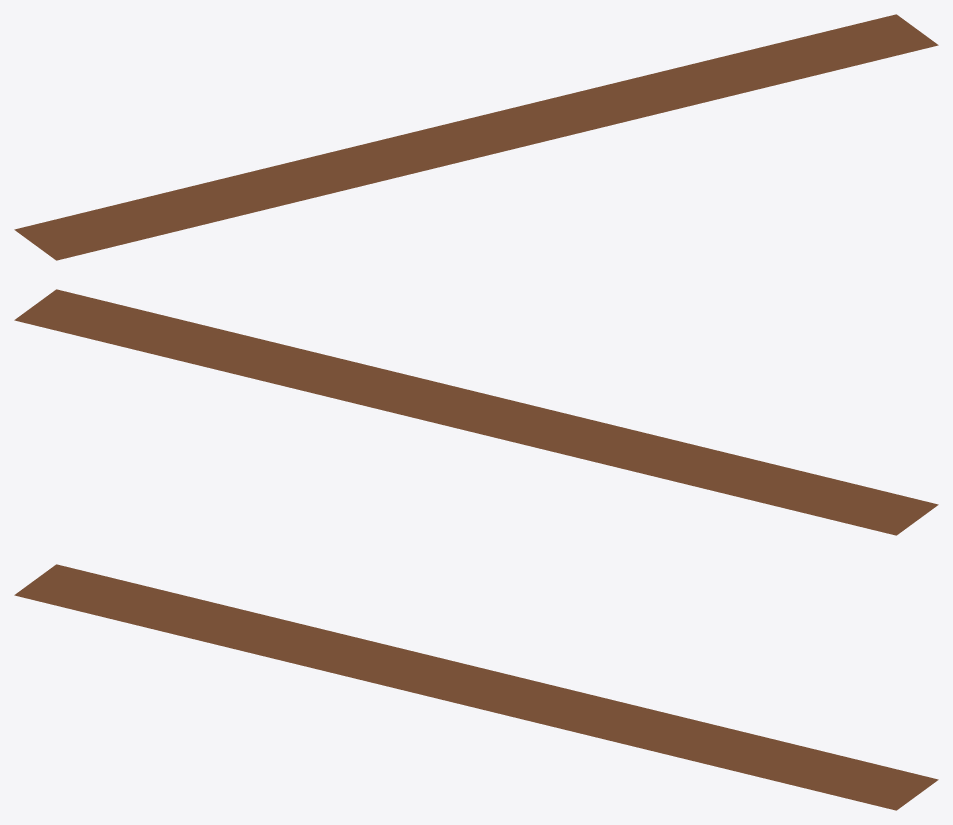
Rendered from Y_FloorTile.fbx.
3 renders of one model, top to bottom at view 1: azimuth 30°, elevation 25°; view 2: azimuth 150°, elevation 25°; view 3: azimuth 330°, elevation 25°, orthographic.
Parts seen in each view (by area): view 1: Plane.026; view 2: Plane.026; view 3: Plane.026.
Boxes of the visible parts, <box> form: Plane.026: <box>14,14,938,260</box>; Plane.026: <box>14,289,938,535</box>; Plane.026: <box>14,564,938,810</box>.
Bounding box in the file's own units: 4800 × 6.52e-05 × 400.
